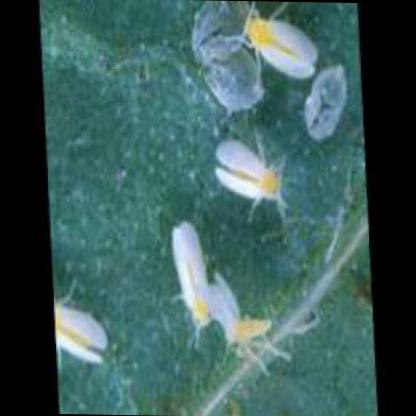whitefly: (214, 134, 281, 207), (244, 18, 316, 78)
